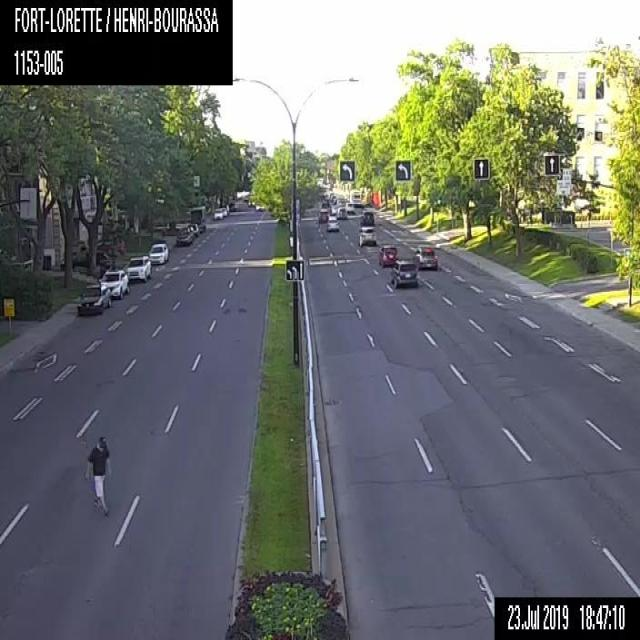bus: (348, 187, 362, 206)
pedestrian: (84, 434, 112, 514)
vehicle: (58, 250, 108, 276), (76, 284, 108, 316), (99, 268, 129, 298), (391, 257, 417, 287), (125, 256, 153, 281), (413, 244, 438, 269), (148, 242, 169, 264), (378, 243, 398, 265), (188, 205, 206, 228), (357, 225, 376, 245), (174, 226, 192, 244), (326, 213, 340, 230), (360, 210, 374, 226), (317, 207, 328, 222), (336, 206, 347, 219), (213, 207, 223, 219), (254, 200, 264, 210), (345, 201, 354, 212), (228, 201, 236, 210), (220, 206, 227, 216), (247, 197, 254, 207), (221, 203, 228, 213)
